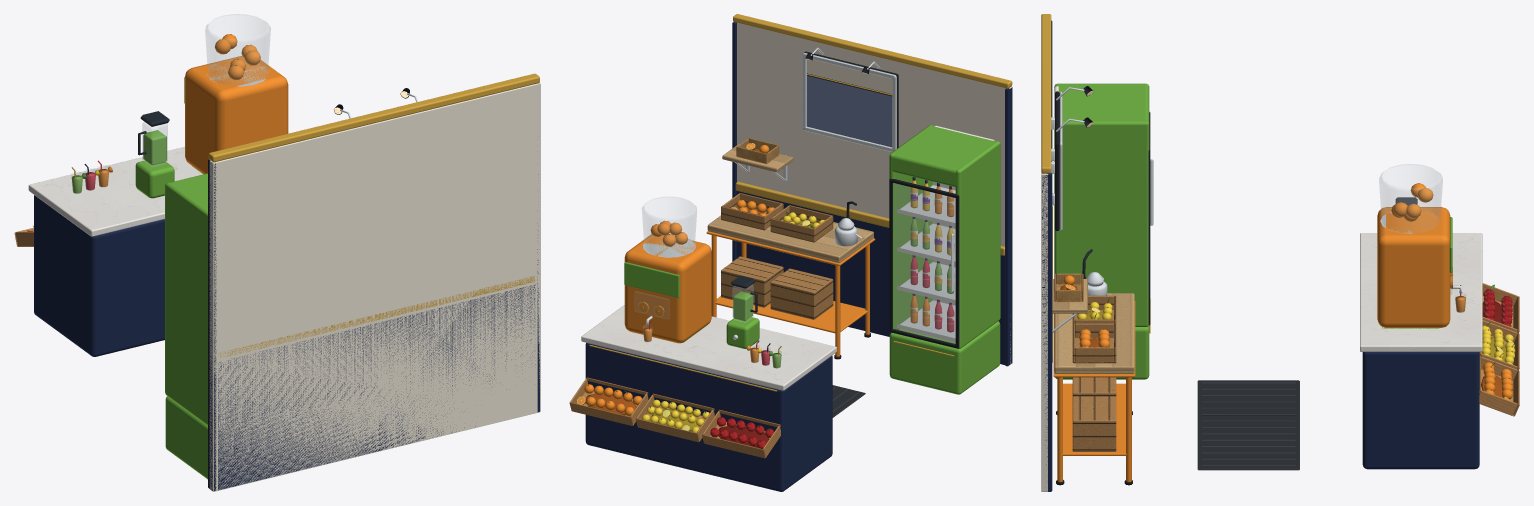
File: sector-sucos_T1.fbx
3 views of the same model, side by side, from view 1: azimuth 30°, elevation 25°; view 2: azimuth 150°, elevation 25°; view 3: azimuth 270°, elevation 25° (orthographic). The views are drawn at different scales.
Parts seen in each view (by area): view 1: Back Wall, Body; view 2: Body, Back Wall, Wall Dressing; view 3: Body, Back Wall, Wall Dressing.
Part boxes in pixels (x1,y1,x2,y2): Back Wall: (208, 73, 540, 491); Body: (14, 14, 288, 479); Body: (569, 125, 1000, 491); Back Wall: (732, 14, 1012, 366); Wall Dressing: (722, 47, 898, 180); Body: (1053, 83, 1519, 485); Back Wall: (1041, 14, 1052, 491); Wall Dressing: (1051, 86, 1093, 332).
Bounding box in the file's own units: 2.5 × 2.45 × 3.27.
